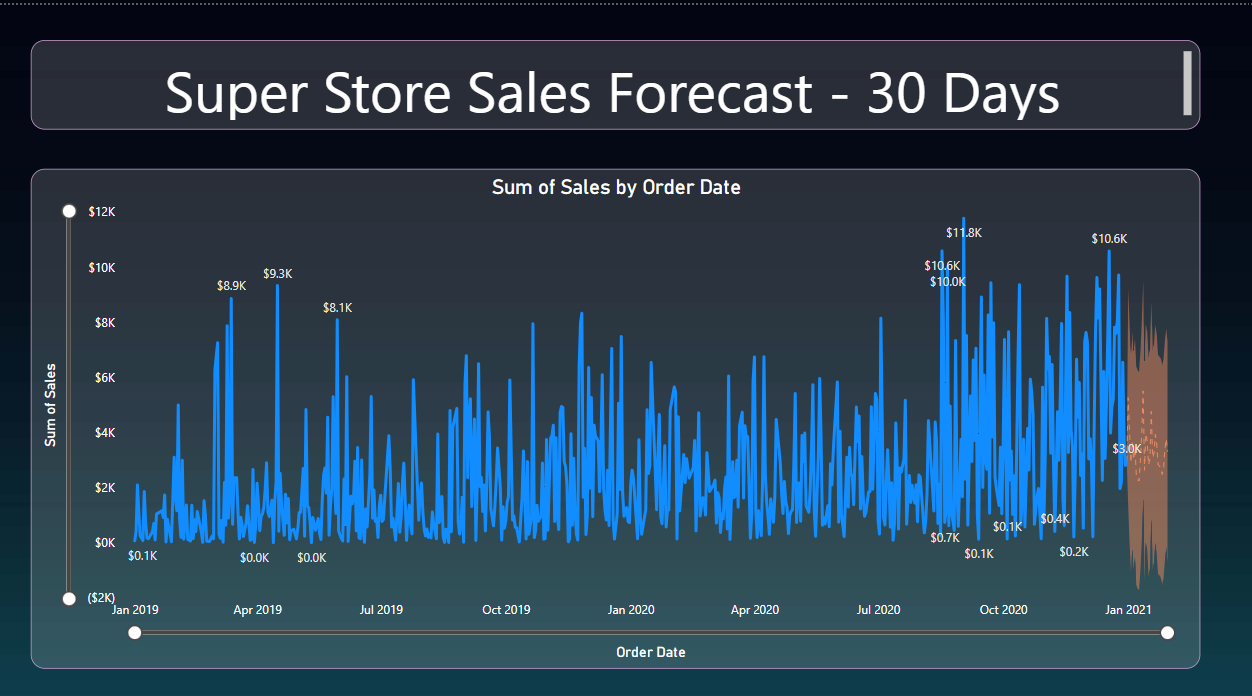

Layout of this report page (visuals, bound fields, positions):
{"tool":"powerbi","page":{"name":"Page 2","canvas":[1280,720],"ordinal":1},"visuals":[{"type":"lineChart","fields":{"Y":["Sum(SuperStore_Sales_Dataset.Sales)"],"Category":["SuperStore_Sales_Dataset.Order Date"]},"box":[44,163.8,1169.8,500],"z":0},{"type":"textbox","box":[44,35.4,1169.8,89.2],"z":1}]}

Visuals, with their boxes in screenshot pixels (x1, y1, x2, y2), scaled from the page's 1280x720 canvas onto the 1252x696 screenshot:
lineChart - Sum(SuperStore_Sales_Dataset.Sales) x SuperStore_Sales_Dataset.Order Date: <bbox>43, 158, 1187, 642</bbox>
textbox: <bbox>43, 34, 1187, 120</bbox>
